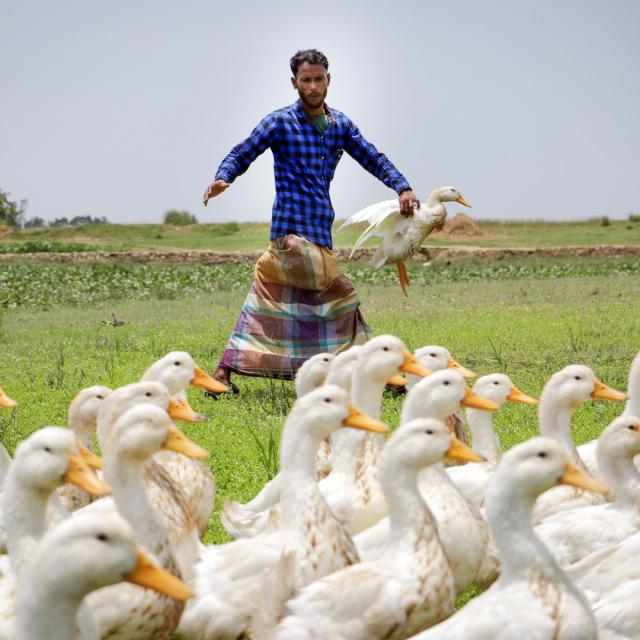Duck: (170, 388, 392, 630), (280, 413, 482, 634), (408, 443, 616, 640), (342, 174, 478, 277)
